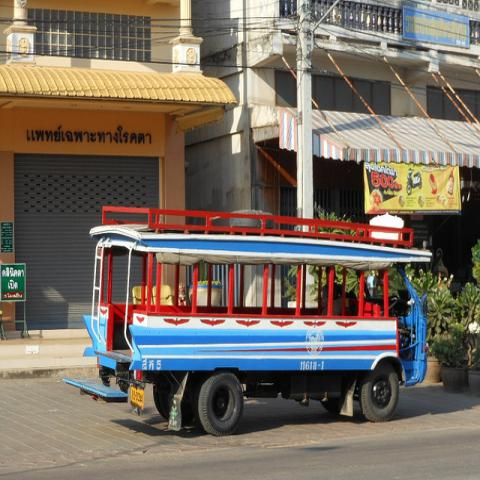bus: (58, 206, 436, 437)
motorcycle: (407, 168, 422, 195)
